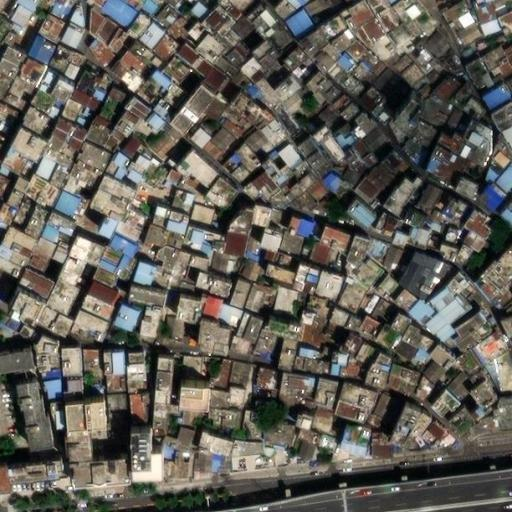building: (76, 438, 137, 494), (20, 381, 55, 457), (185, 232, 236, 283), (461, 393, 512, 444), (185, 94, 231, 145), (409, 261, 457, 309), (387, 404, 441, 446), (189, 53, 238, 98), (101, 186, 148, 231), (102, 253, 147, 299), (376, 2, 415, 52), (396, 0, 440, 44), (236, 284, 282, 326), (76, 65, 118, 109), (151, 233, 193, 277), (298, 270, 346, 307), (144, 74, 186, 116), (258, 14, 299, 56), (89, 290, 130, 331), (76, 317, 121, 354), (187, 159, 232, 196), (13, 289, 55, 326), (133, 439, 164, 489), (270, 222, 309, 261), (155, 124, 189, 168), (326, 52, 364, 91), (305, 145, 341, 186), (51, 284, 88, 323), (400, 99, 437, 138), (468, 319, 499, 365), (254, 180, 297, 212), (28, 179, 65, 216), (367, 94, 402, 133), (169, 175, 213, 206), (305, 333, 341, 370), (255, 341, 294, 375), (110, 3, 149, 37), (262, 48, 296, 87), (43, 312, 84, 344), (74, 408, 116, 439), (158, 213, 200, 244), (198, 125, 234, 161), (350, 144, 385, 181), (12, 466, 63, 491), (54, 52, 90, 87), (351, 391, 393, 421), (263, 85, 298, 121), (286, 150, 321, 186), (364, 296, 401, 330), (434, 153, 467, 191), (22, 137, 59, 170), (78, 243, 115, 276), (52, 145, 89, 178), (8, 233, 46, 265), (165, 91, 198, 127), (393, 125, 425, 162), (61, 129, 99, 160), (89, 150, 124, 183), (33, 257, 70, 288), (350, 264, 387, 295), (219, 181, 253, 214), (372, 247, 406, 280), (323, 135, 355, 170), (337, 279, 368, 315), (301, 183, 337, 214), (25, 274, 62, 304), (8, 57, 41, 90), (56, 195, 89, 228), (212, 15, 245, 48), (218, 110, 251, 143), (445, 4, 478, 37), (304, 299, 336, 333), (271, 169, 306, 200), (57, 411, 78, 462), (205, 280, 243, 308), (378, 280, 411, 312), (215, 334, 247, 367), (342, 36, 374, 69), (382, 362, 409, 401), (105, 96, 135, 131), (161, 62, 198, 90), (160, 433, 187, 471), (295, 91, 327, 123), (226, 158, 258, 190), (355, 10, 388, 41), (85, 214, 115, 248), (468, 61, 498, 95), (41, 243, 77, 271), (267, 371, 292, 411), (238, 148, 269, 180), (399, 181, 431, 212), (275, 289, 304, 323), (413, 334, 447, 363), (108, 359, 135, 395), (229, 390, 250, 436), (440, 397, 471, 428), (207, 44, 238, 75), (0, 106, 23, 147), (35, 43, 65, 74), (419, 306, 450, 336), (246, 319, 276, 350), (305, 106, 336, 136), (373, 168, 403, 199), (67, 262, 96, 294), (376, 77, 408, 106), (326, 232, 360, 259), (185, 438, 212, 472), (48, 231, 83, 257), (31, 114, 61, 144), (346, 410, 382, 435), (320, 82, 350, 112), (338, 98, 368, 128), (296, 60, 326, 90), (11, 87, 40, 118), (125, 122, 154, 153), (142, 299, 181, 322), (439, 320, 467, 352), (401, 375, 429, 407), (81, 170, 114, 197), (269, 268, 303, 294), (32, 71, 61, 101), (42, 20, 71, 50), (246, 261, 275, 291), (471, 218, 500, 248), (160, 42, 190, 71), (353, 178, 382, 208), (414, 186, 443, 216), (370, 27, 399, 57), (472, 129, 500, 160), (127, 216, 151, 252), (339, 362, 375, 386), (29, 213, 55, 246), (206, 440, 239, 466), (270, 426, 303, 452), (293, 382, 330, 405), (338, 316, 372, 341), (115, 162, 144, 191), (277, 326, 312, 350), (96, 23, 124, 53), (93, 44, 121, 74), (331, 116, 361, 144), (351, 203, 381, 231), (92, 122, 119, 153), (354, 429, 386, 455), (56, 220, 89, 245), (177, 270, 205, 299), (172, 193, 200, 222), (265, 125, 293, 154), (382, 217, 410, 246), (314, 39, 343, 67), (481, 345, 511, 372), (67, 181, 98, 207), (140, 167, 166, 198), (13, 324, 44, 350), (11, 182, 36, 214), (330, 178, 355, 210), (324, 390, 352, 418), (319, 413, 347, 441), (157, 6, 185, 34), (251, 65, 279, 93), (255, 142, 283, 170), (11, 155, 38, 184), (122, 69, 151, 96), (295, 16, 321, 46), (297, 432, 321, 464), (186, 385, 219, 408), (118, 310, 145, 338), (50, 0, 78, 27), (284, 81, 312, 108), (434, 79, 462, 106), (440, 297, 469, 323), (130, 59, 159, 85), (235, 48, 261, 77), (353, 241, 378, 271), (302, 243, 333, 267), (202, 457, 233, 481), (132, 357, 155, 389), (467, 300, 494, 327), (225, 307, 252, 334), (414, 232, 441, 259), (331, 24, 358, 51), (242, 220, 270, 246), (233, 241, 261, 267), (199, 0, 225, 28), (139, 49, 167, 75), (359, 346, 388, 371), (469, 150, 499, 174), (165, 384, 188, 415), (458, 40, 489, 63), (70, 354, 92, 386), (316, 436, 342, 463), (443, 355, 470, 381), (464, 358, 490, 385), (148, 32, 174, 59), (457, 25, 484, 51), (424, 33, 451, 59), (453, 90, 479, 117), (170, 19, 194, 48), (491, 189, 512, 222), (187, 308, 213, 334), (287, 50, 313, 76), (352, 83, 378, 109), (112, 34, 137, 61), (480, 24, 508, 48), (16, 203, 39, 232), (246, 415, 269, 444), (0, 17, 22, 47), (136, 0, 167, 21), (138, 108, 164, 133), (404, 297, 429, 323), (453, 311, 478, 337), (187, 415, 213, 440), (252, 111, 277, 137), (283, 116, 307, 143), (233, 449, 271, 466), (42, 344, 65, 372), (368, 319, 391, 347), (407, 348, 435, 371), (458, 285, 483, 310), (426, 368, 451, 393), (464, 103, 489, 128), (110, 224, 134, 250), (113, 398, 137, 424), (158, 319, 182, 345), (138, 24, 162, 50), (37, 164, 64, 187), (68, 30, 91, 57), (288, 347, 308, 378), (91, 12, 111, 43), (122, 245, 150, 267), (447, 141, 475, 163), (142, 316, 163, 345), (192, 207, 216, 232), (426, 96, 450, 121), (401, 66, 425, 91), (415, 214, 441, 237), (84, 101, 111, 123), (447, 377, 471, 401), (239, 101, 263, 125), (362, 56, 386, 80), (383, 45, 407, 69), (145, 271, 168, 296), (387, 333, 410, 358), (18, 13, 43, 36), (75, 112, 97, 138), (326, 252, 348, 278), (390, 158, 416, 180), (419, 48, 441, 74), (90, 355, 109, 385), (136, 401, 155, 431), (161, 273, 182, 300), (39, 99, 63, 122), (67, 93, 90, 117), (210, 213, 233, 237), (467, 236, 490, 260), (444, 198, 468, 221), (269, 447, 294, 469), (388, 201, 413, 223), (73, 385, 94, 411), (303, 410, 324, 436), (350, 447, 380, 465), (308, 0, 330, 24), (164, 414, 189, 435), (211, 301, 232, 326), (314, 366, 339, 387), (56, 111, 82, 131), (52, 385, 74, 408), (464, 184, 487, 206), (435, 48, 458, 70), (442, 107, 464, 130), (44, 370, 72, 388), (292, 0, 323, 16), (424, 384, 443, 410), (184, 359, 202, 386), (225, 65, 247, 87), (369, 134, 391, 156), (231, 367, 251, 391), (449, 253, 473, 273), (363, 120, 384, 142), (50, 82, 69, 106), (165, 0, 193, 16), (402, 323, 423, 344), (227, 37, 248, 58), (285, 7, 306, 28), (245, 342, 262, 367), (0, 271, 15, 299), (74, 13, 91, 37), (218, 366, 232, 395), (475, 375, 495, 395), (197, 30, 217, 50), (55, 170, 73, 192), (340, 139, 362, 157), (392, 59, 413, 77), (243, 30, 262, 49), (168, 364, 185, 385), (306, 225, 323, 246), (387, 403, 404, 424), (191, 471, 213, 487), (109, 137, 127, 156), (141, 154, 159, 173), (413, 148, 430, 168), (378, 448, 400, 463), (360, 71, 378, 89), (416, 86, 434, 104), (344, 169, 360, 189), (463, 162, 483, 178), (189, 0, 213, 13), (92, 384, 111, 400), (268, 215, 283, 235), (440, 212, 457, 229), (268, 255, 286, 271), (302, 363, 318, 381), (445, 231, 461, 249), (74, 0, 92, 15), (400, 237, 417, 252), (36, 0, 58, 11), (379, 420, 395, 435), (135, 388, 150, 402), (436, 225, 450, 240), (358, 134, 374, 147), (289, 400, 301, 416), (504, 21, 512, 42)
